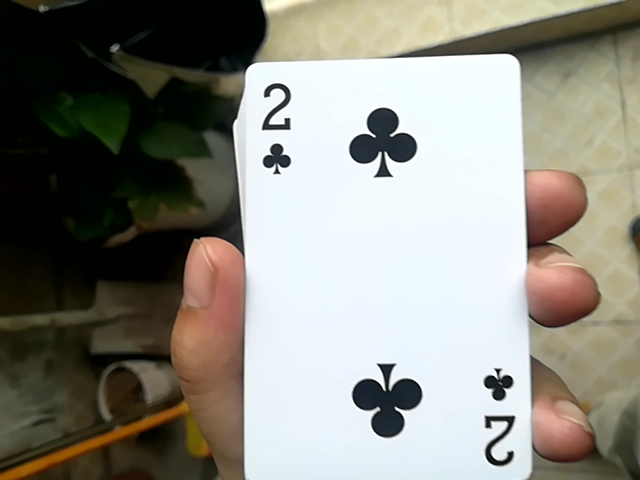mh 2: (227, 47, 529, 479)
